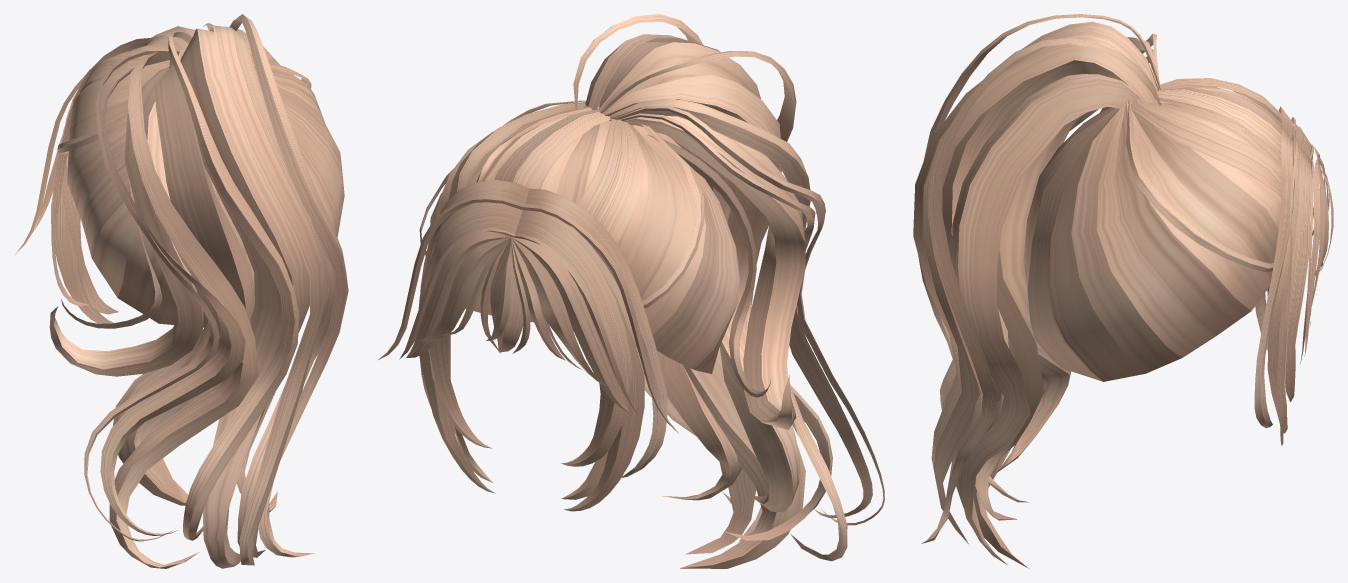
3 views of the same model, side by side, from view 1: azimuth 30°, elevation 25°; view 2: azimuth 150°, elevation 25°; view 3: azimuth 270°, elevation 25° (orthographic). The views are drawn at different scales.
Visible parts, largest first — view 1: geometry_0; view 2: geometry_0; view 3: geometry_0.
Boxes of the visible parts, <box> form: geometry_0: <box>15,14,348,568</box>; geometry_0: <box>378,14,884,568</box>; geometry_0: <box>913,14,1333,568</box>.
Bounding box in the file's own units: 1.91 × 2.82 × 1.98.
1 material, 1 textured.
